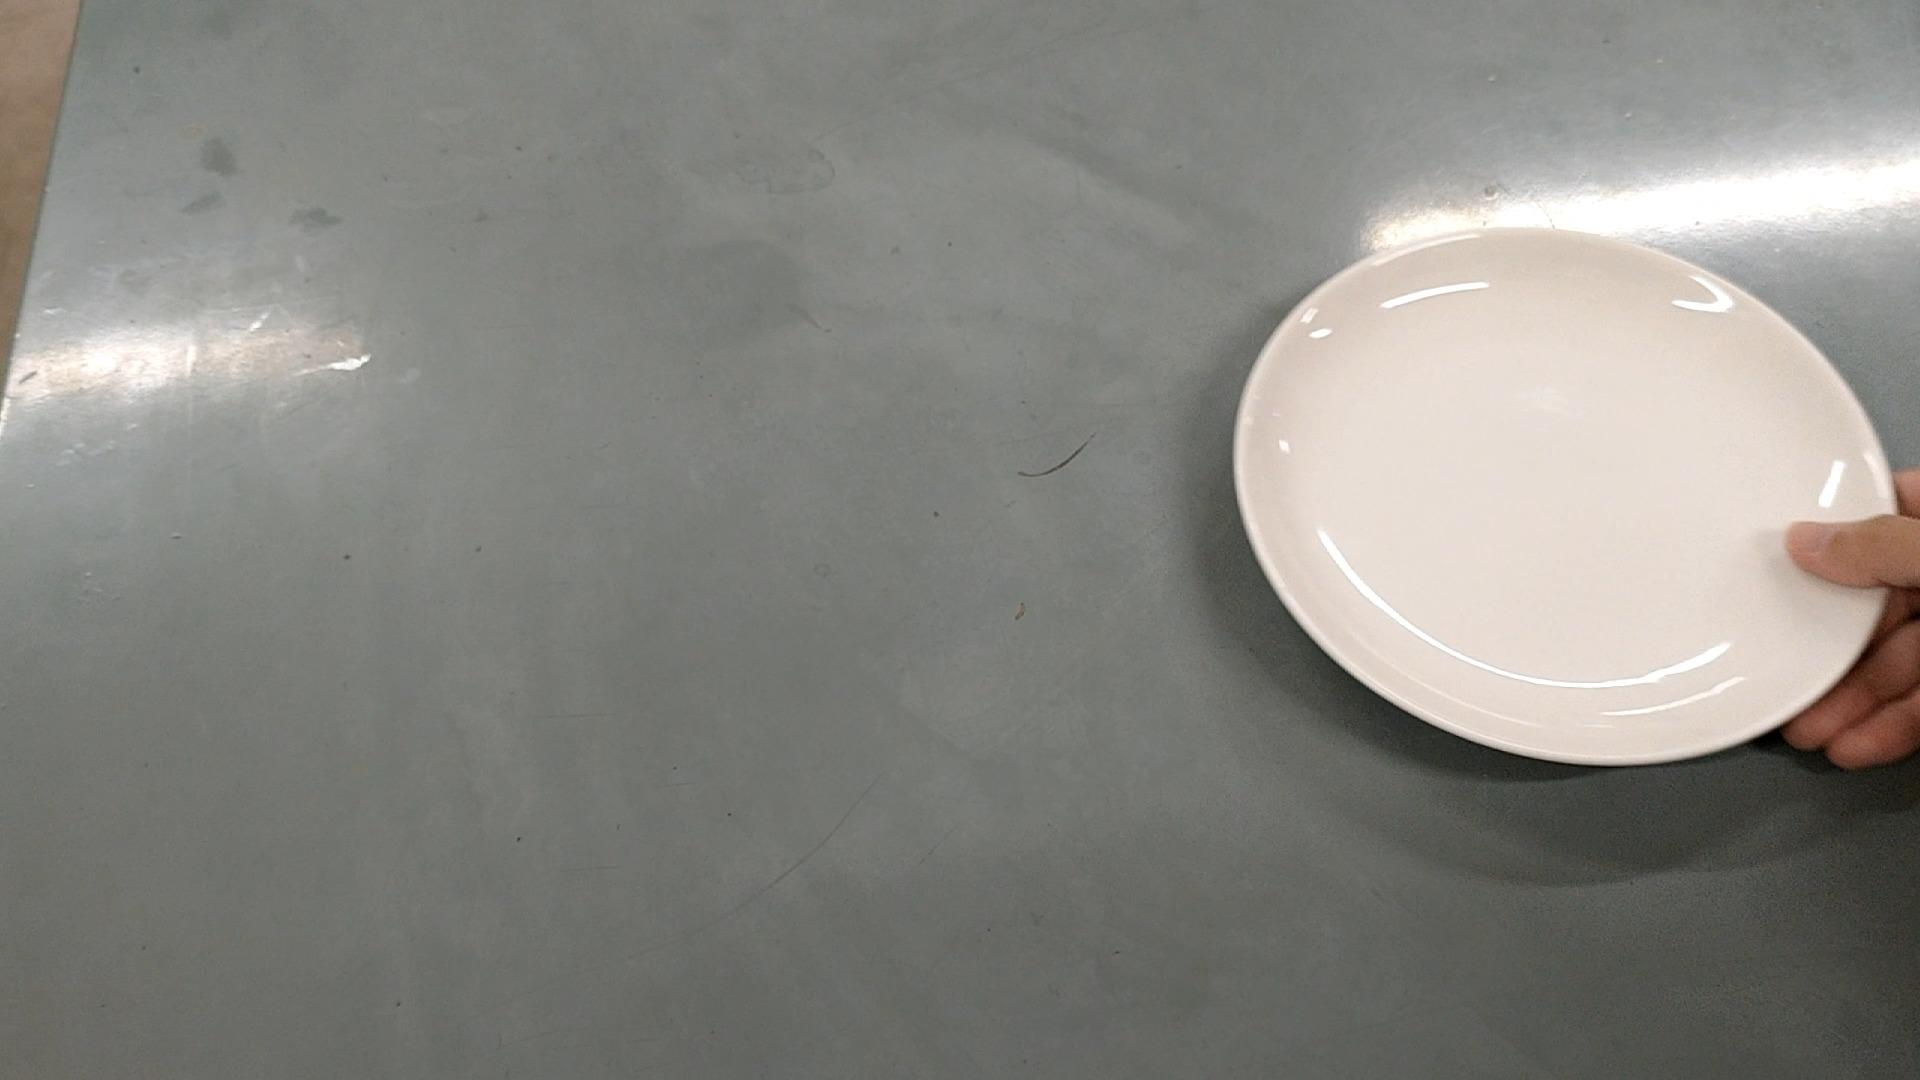plate: (1236, 223, 1903, 770)
